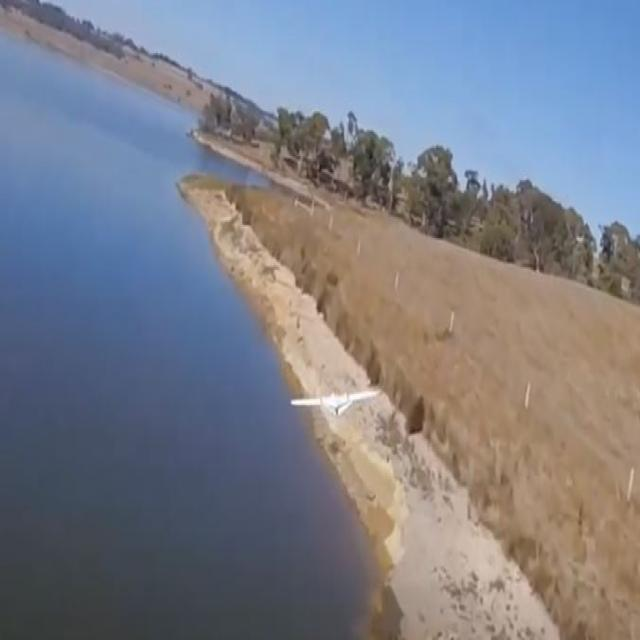iha: (321, 388, 348, 419)
